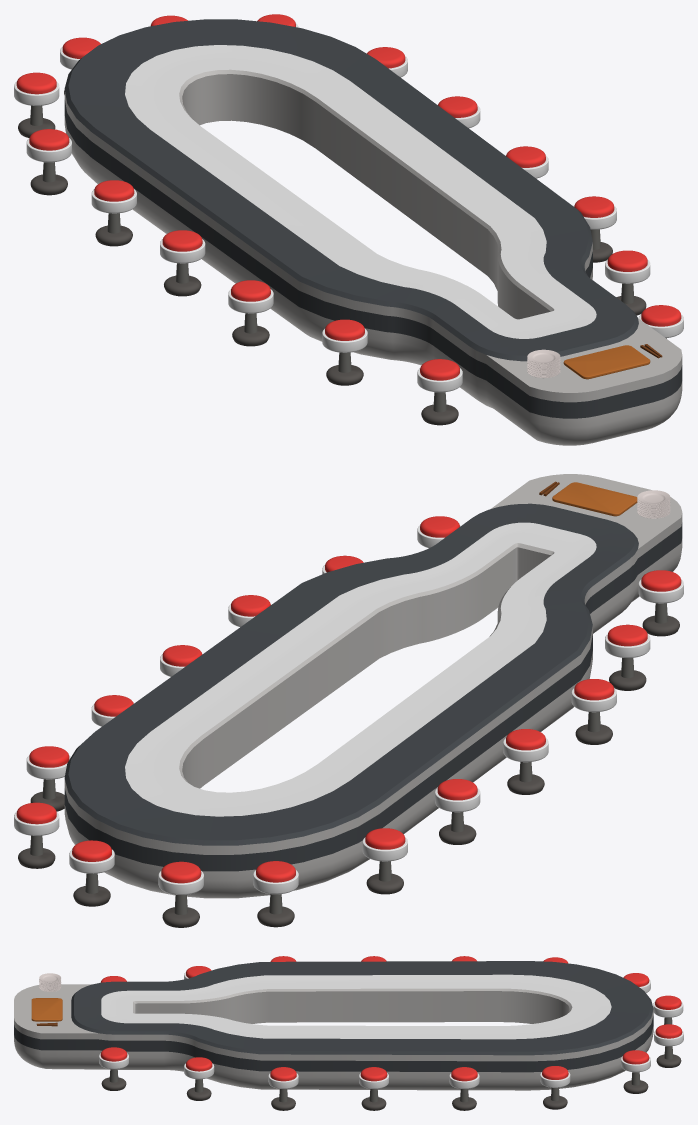
File: sahne (9).fbx
3 views of the same model, one above another, from view 1: azimuth 30°, elevation 25°; view 2: azimuth 150°, elevation 25°; view 3: azimuth 270°, elevation 25° (orthographic). The views are drawn at different scales.
Parts seen in each view (by area): view 1: Alt Kısım, Üst Ray, Üst Ray.001, Sandalyeler, Tahta, Tabak.007; view 2: Alt Kısım, Üst Ray, Üst Ray.001, Sandalyeler, Tahta, Tabak.007; view 3: Alt Kısım, Üst Ray, Üst Ray.001, Sandalyeler, Tahta, Tabak.007.
Boxes of the visible parts, x1,y1,x2,y2 form: Alt Kısım: (64, 69, 682, 445); Üst Ray: (64, 19, 638, 361); Üst Ray.001: (125, 45, 596, 338); Sandalyeler: (14, 14, 683, 425); Tahta: (563, 345, 650, 379); Tabak.007: (527, 349, 560, 378); Alt Kısım: (64, 474, 682, 898); Üst Ray: (64, 503, 638, 845); Üst Ray.001: (125, 522, 596, 816); Sandalyeler: (14, 516, 683, 927); Tahta: (552, 482, 637, 516); Tabak.007: (637, 490, 670, 518); Alt Kısım: (14, 984, 653, 1090); Üst Ray: (71, 961, 653, 1055); Üst Ray.001: (101, 974, 611, 1039); Sandalyeler: (99, 956, 683, 1110); Tahta: (31, 998, 62, 1021); Tabak.007: (39, 973, 61, 991).
Size of what is drawn, in the model's own units: 4.74 by 0.9817 by 10.85.
